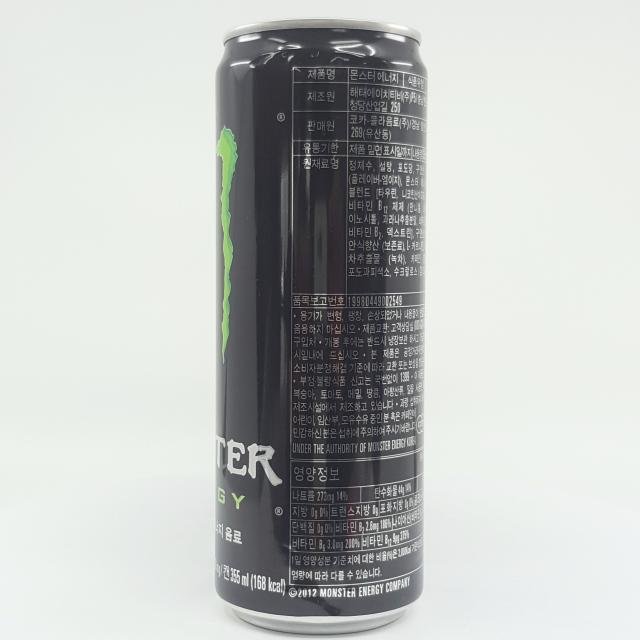--------355ML: (214, 18, 425, 634)
